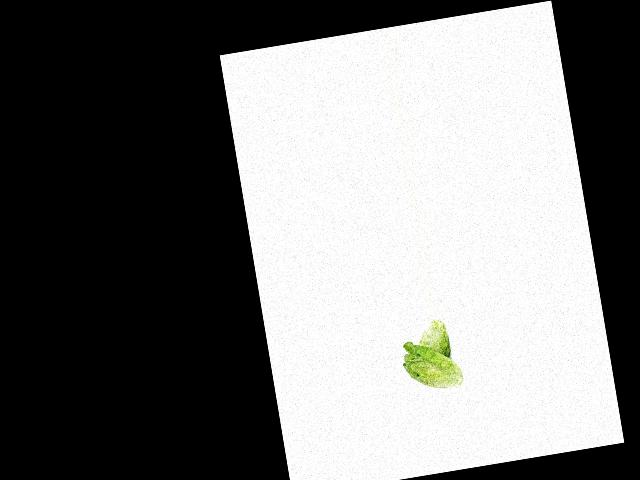lettuce: (413, 316, 455, 362)
